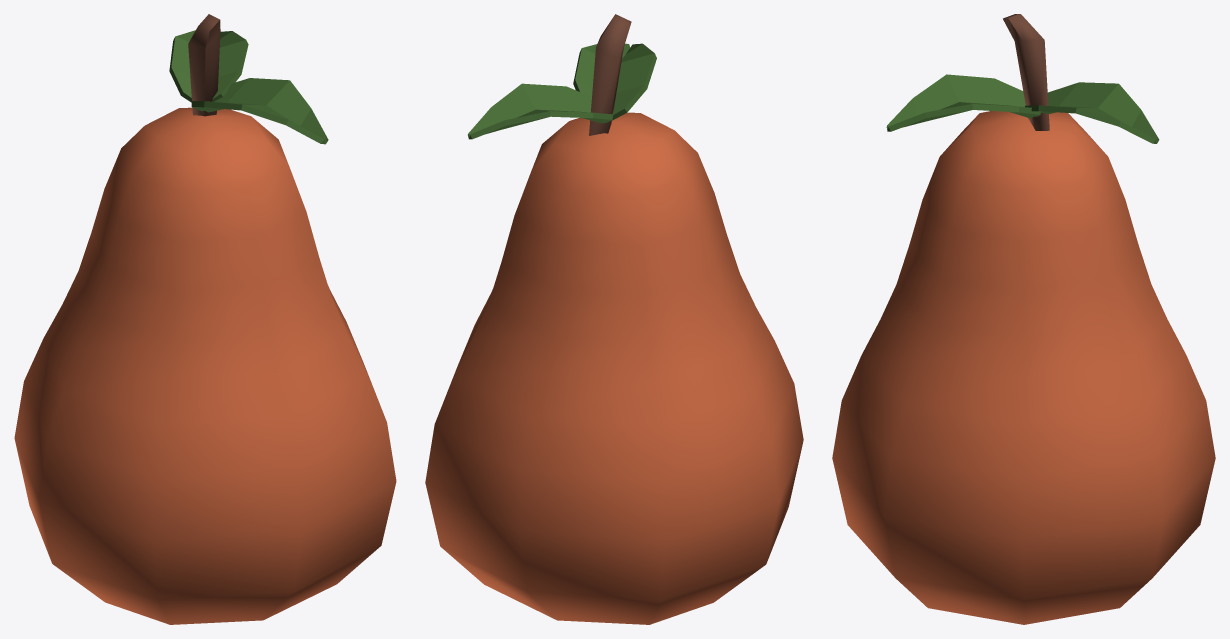
The model's file is green_10.glb.
3 views of the same model, side by side, from view 1: azimuth 30°, elevation 25°; view 2: azimuth 150°, elevation 25°; view 3: azimuth 270°, elevation 25° (orthographic).
Parts seen in each view (by area): view 1: green_10; view 2: green_10; view 3: green_10.
Part boxes in pixels (box(x1,y1,x2,y2)): green_10: box(14, 14, 396, 624); green_10: box(425, 14, 803, 624); green_10: box(832, 14, 1215, 624).
Bounding box in the file's own units: 0.1398 × 0.2339 × 0.1398.
1 material, 1 textured.
